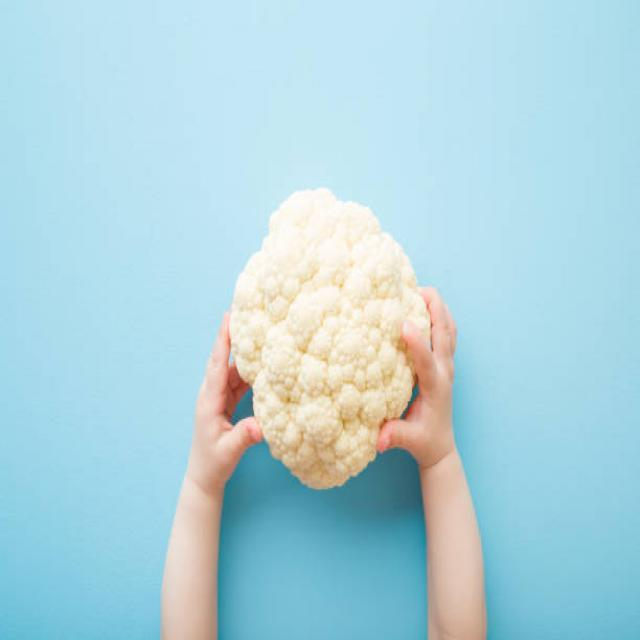cauliflower: (232, 181, 436, 494)
